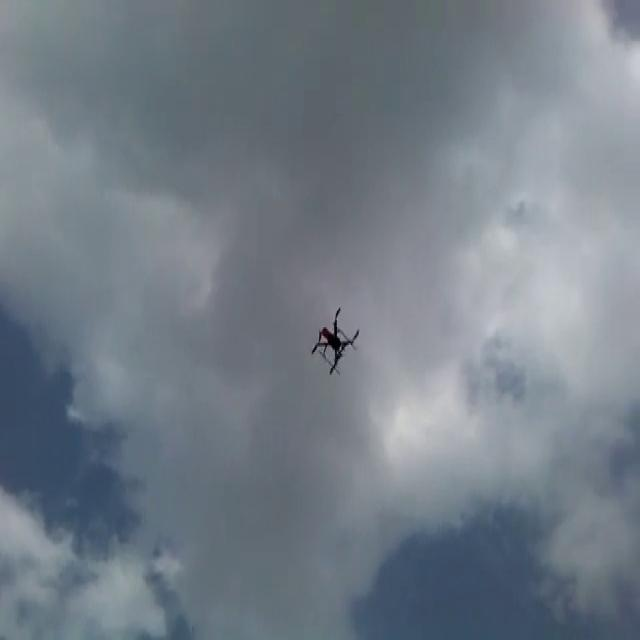drone: (308, 302, 360, 375)
